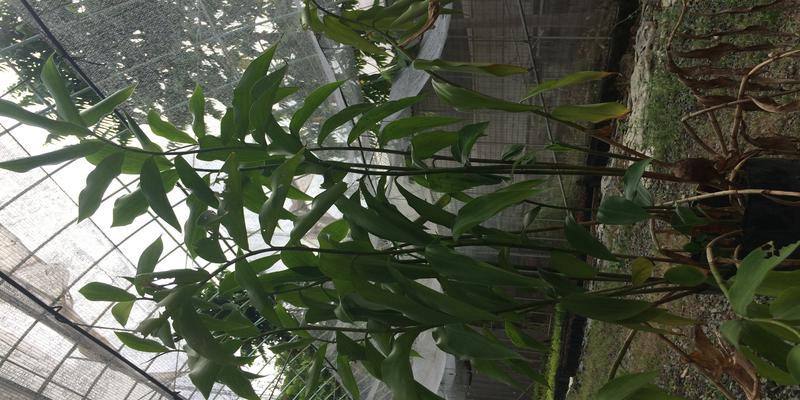Insulin: (38, 70, 753, 343)
